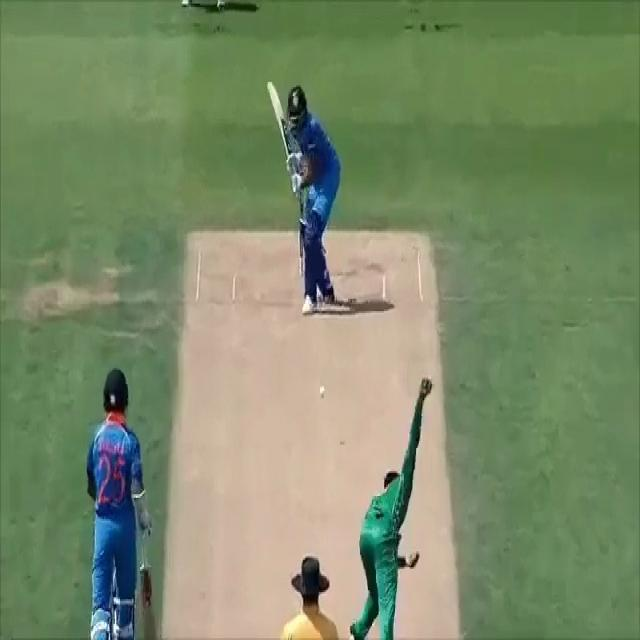cricketBall: (319, 385, 326, 398)
